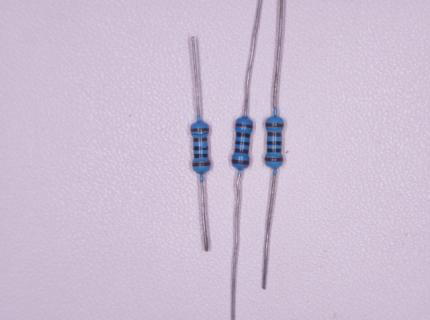Black band: (237, 132, 250, 138), (236, 140, 250, 145), (194, 146, 208, 151), (267, 141, 282, 145), (267, 148, 282, 152), (194, 154, 208, 157)
Brown band: (232, 159, 249, 165), (236, 123, 253, 129), (193, 137, 208, 142), (266, 123, 284, 127), (265, 157, 283, 161), (268, 131, 282, 136), (193, 162, 210, 166), (235, 148, 248, 153), (190, 128, 209, 131)
